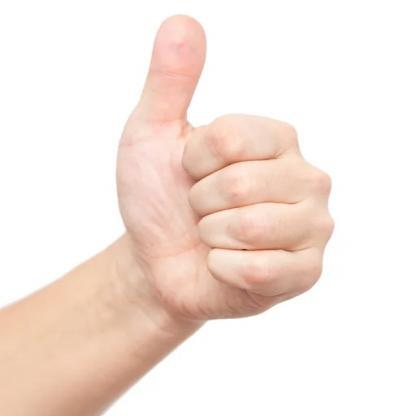thumb_up: (112, 11, 334, 324)
